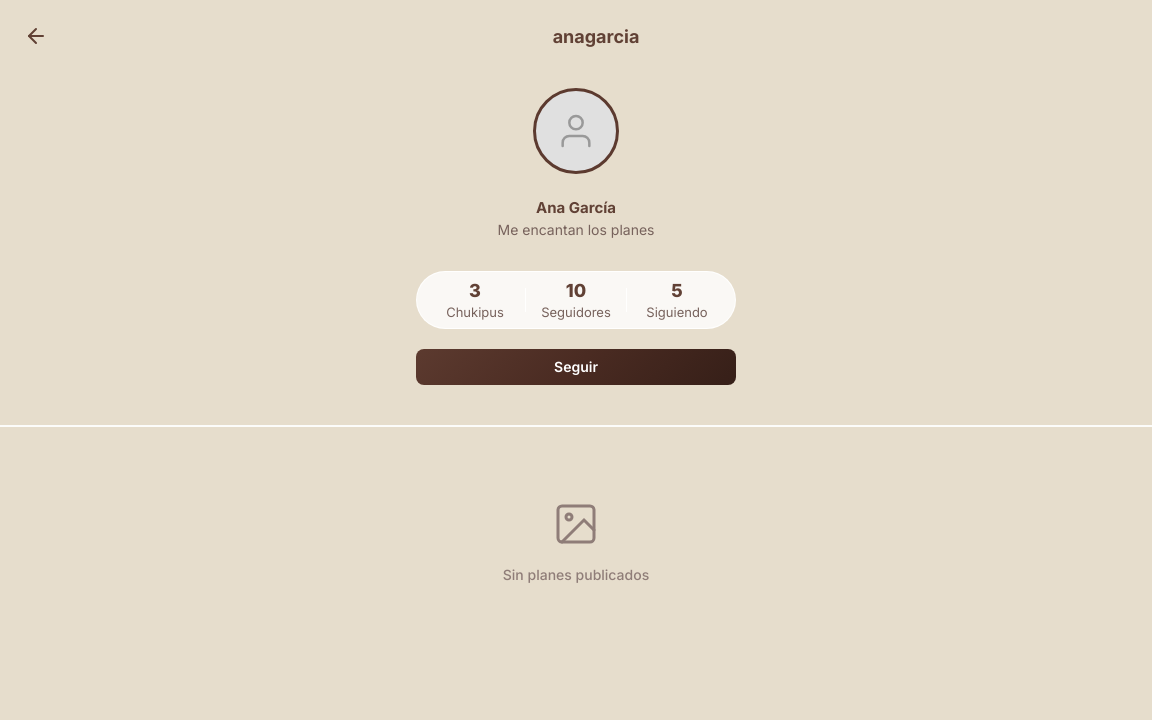
Test case: UserProfilePage › clicking "Seguir" changes button to "Siguiendo" — if this fails, follow action does not update the UI
The image size is (1152, 720).
Step 1. Click the button "Seguir" → (576, 367), box [416,349,736,385]
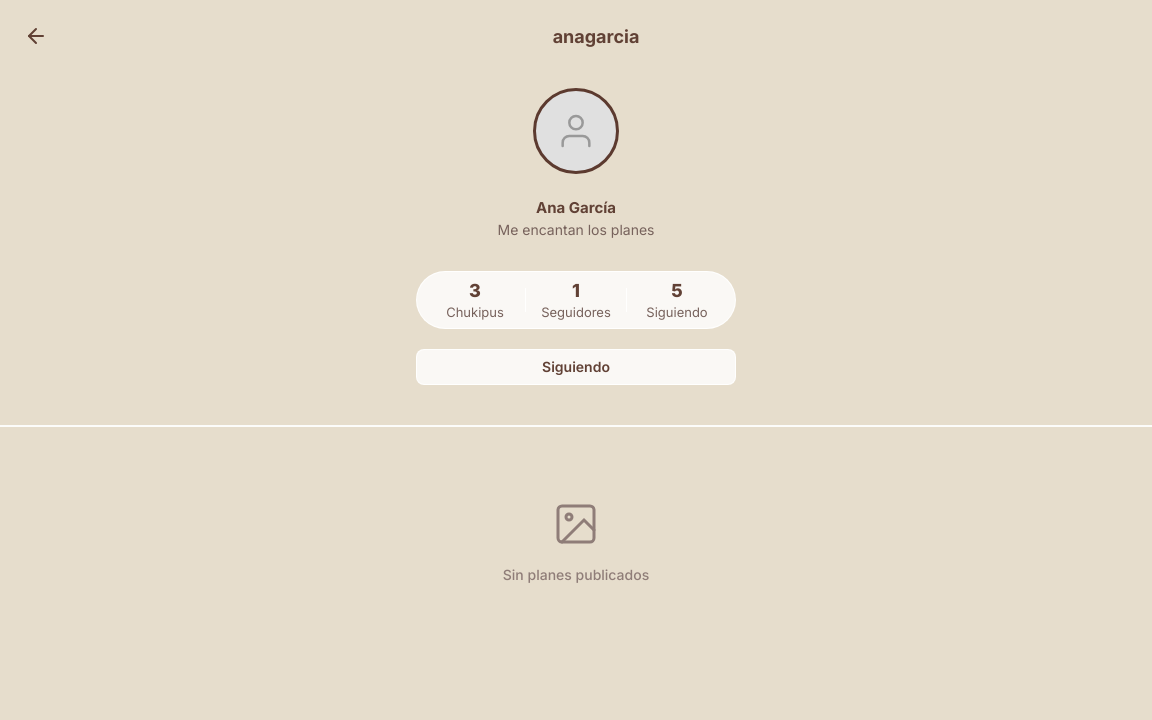
expect the button "Siguiendo" is shown: met, box [416,349,736,385]
